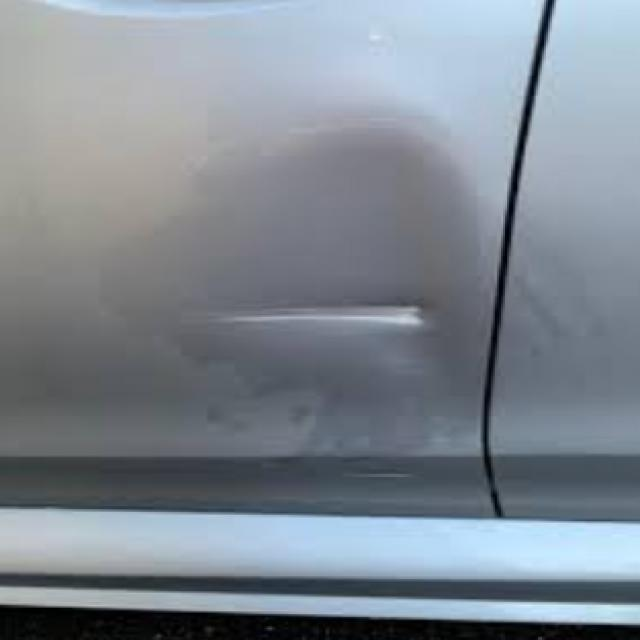dents: (150, 280, 502, 354)
